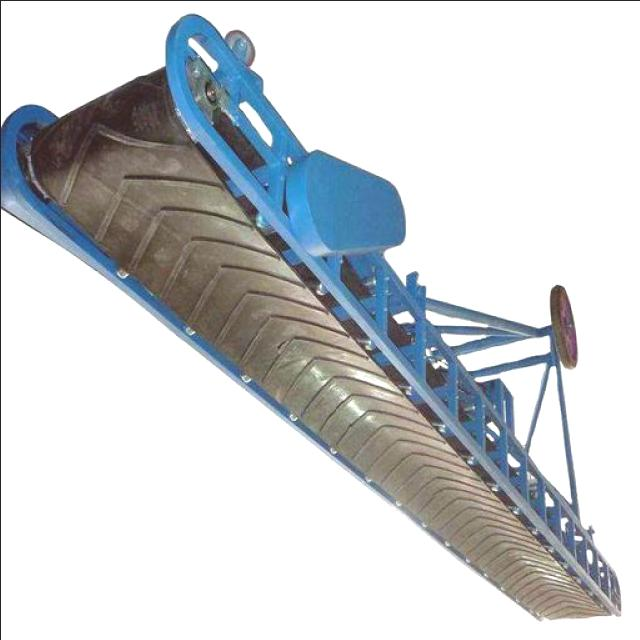conveyor: (19, 56, 617, 620)
